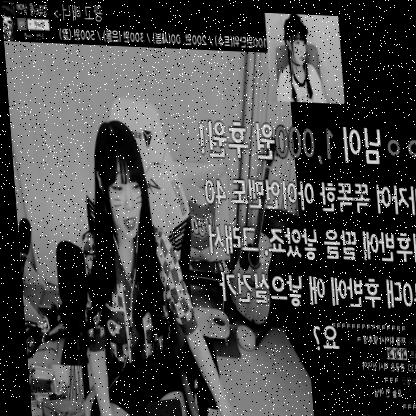donation: (189, 7, 416, 349)
streamer: (68, 116, 252, 416)
